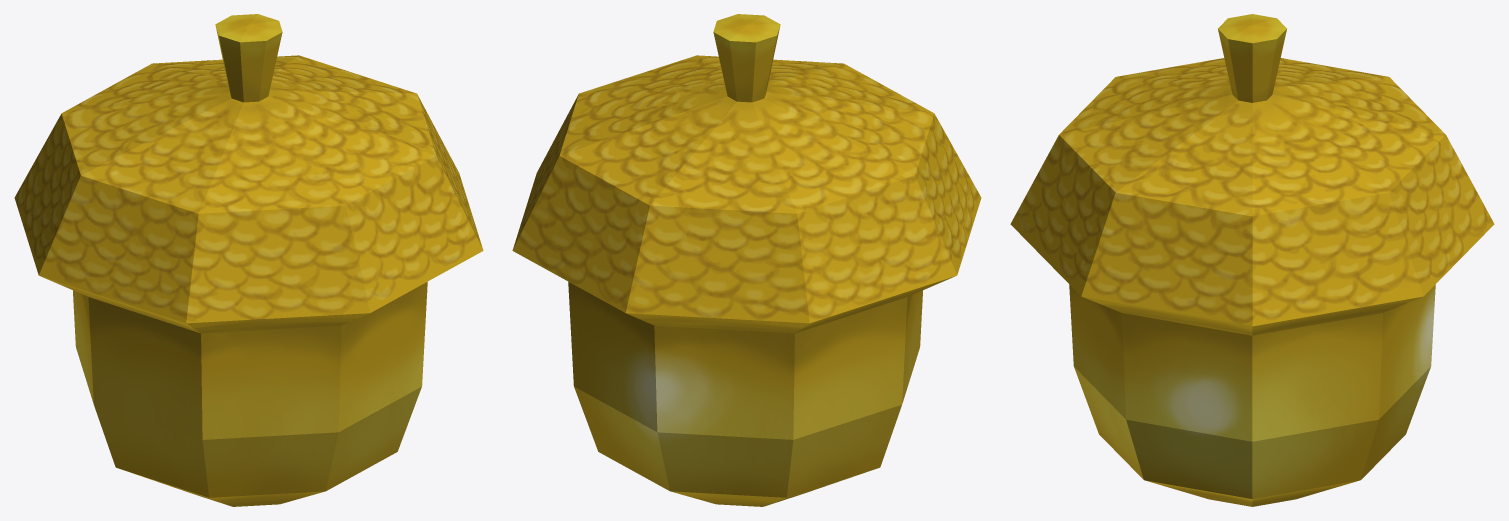
File: Acorn.fbx
The picture shows the model from 3 angles, left to right: view 1: azimuth 30°, elevation 25°; view 2: azimuth 150°, elevation 25°; view 3: azimuth 270°, elevation 25°; orthographic projection.
Visible parts, largest first — view 1: Plane.016; view 2: Plane.016; view 3: Plane.016.
Boxes of the visible parts, box(x1,y1,x2,y2) form: Plane.016: box(14, 14, 483, 506); Plane.016: box(512, 14, 981, 506); Plane.016: box(1010, 14, 1494, 506).
Size of the model in its own units: 40.05 by 43.36 by 40.05.
